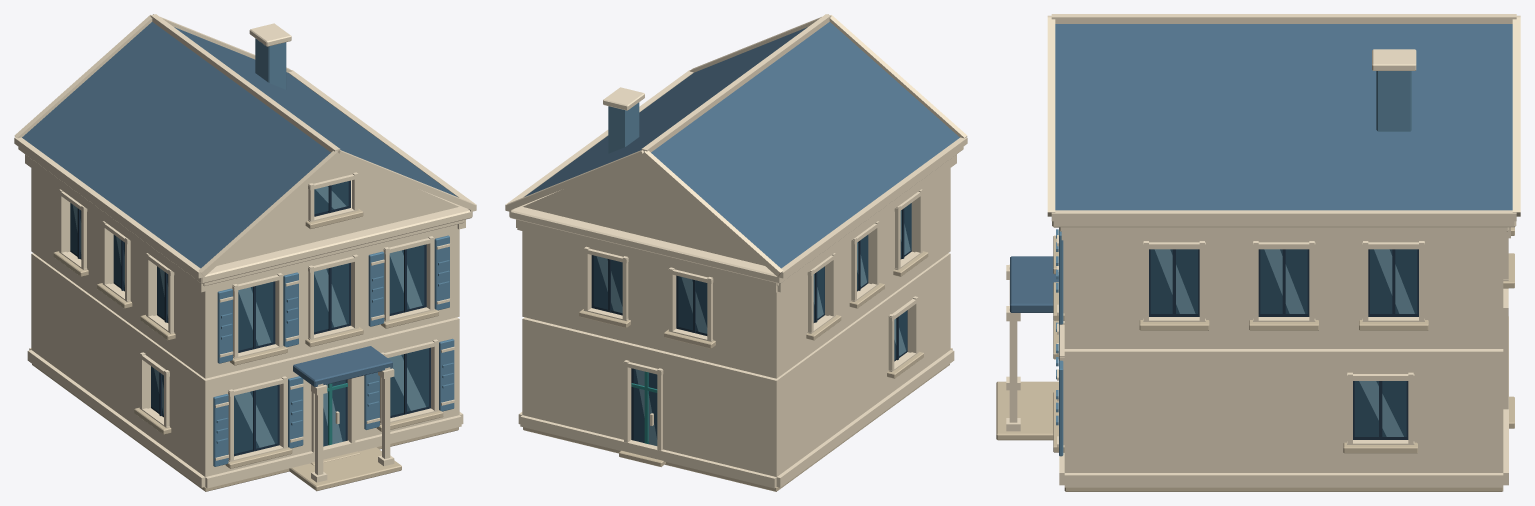
The model's file is blue_gable_house.glb.
3 renders of one model, left to right at view 1: azimuth 30°, elevation 25°; view 2: azimuth 150°, elevation 25°; view 3: azimuth 270°, elevation 25°, orthographic. The views are drawn at different scales.
Parts seen in each view (by area): view 1: BlueGableHouse_StaticMesh; view 2: BlueGableHouse_StaticMesh; view 3: BlueGableHouse_StaticMesh.
Part boxes in pixels (<box>): BlueGableHouse_StaticMesh: <box>14,14,476,491</box>; BlueGableHouse_StaticMesh: <box>505,14,967,491</box>; BlueGableHouse_StaticMesh: <box>996,14,1520,491</box>.
Size of the model in its own units: 8.31 by 9.05 by 10.75.
